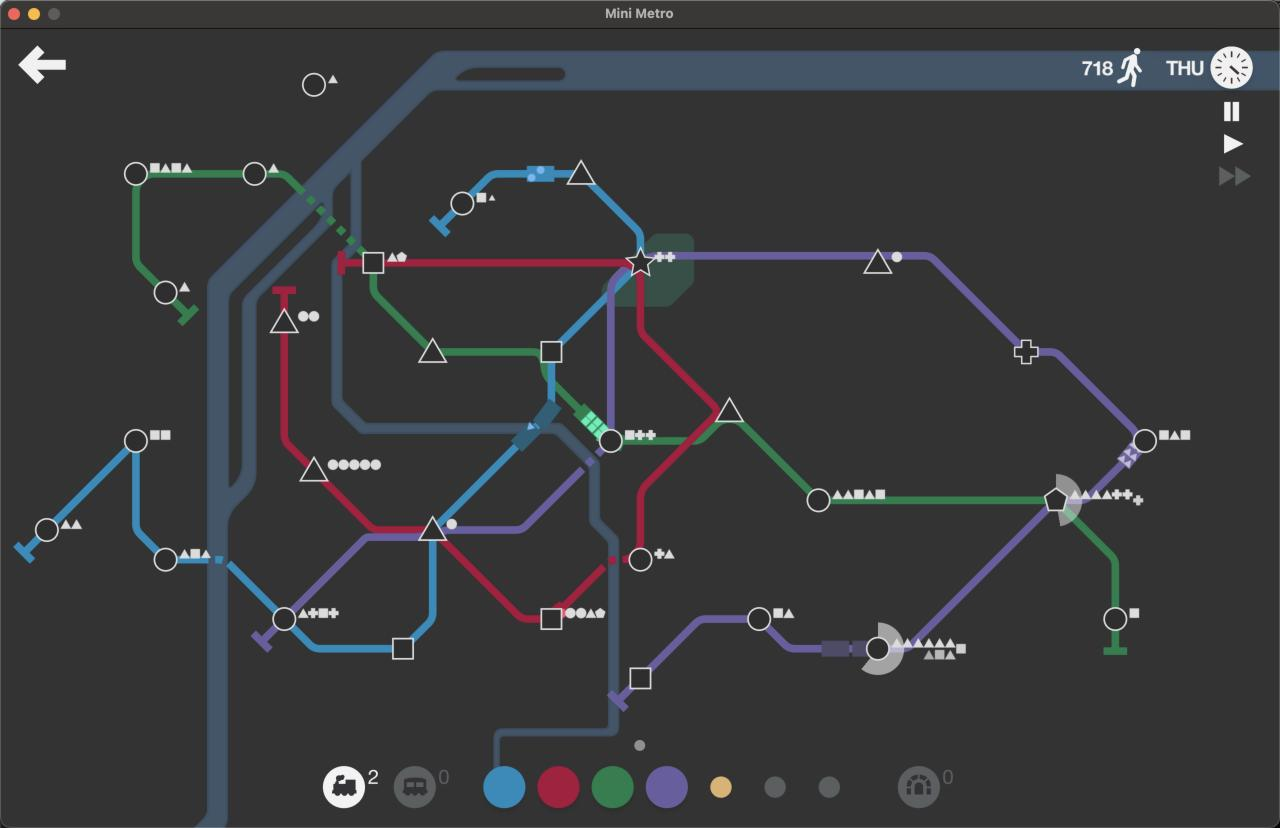CIRCLE: (1103, 606, 1129, 632), (123, 428, 149, 454), (272, 606, 297, 632), (627, 547, 653, 572), (747, 606, 772, 632), (866, 636, 891, 662), (450, 190, 475, 216), (153, 279, 178, 305), (302, 72, 327, 98), (153, 547, 178, 572), (598, 428, 623, 453), (123, 161, 148, 186), (806, 487, 830, 513), (35, 517, 59, 543), (242, 161, 266, 187), (1133, 428, 1157, 453)
CROSS: (1014, 339, 1039, 364)
PENTAGON: (1044, 486, 1069, 513)
SQUARE: (540, 607, 563, 631), (362, 251, 385, 275), (629, 666, 652, 690), (392, 636, 414, 661), (540, 340, 563, 363)
STAR: (625, 249, 656, 277)
TRIANGLE: (417, 336, 449, 365), (299, 455, 330, 483), (417, 514, 448, 542), (862, 247, 893, 275), (269, 308, 301, 335), (714, 396, 743, 422), (567, 159, 596, 185)
